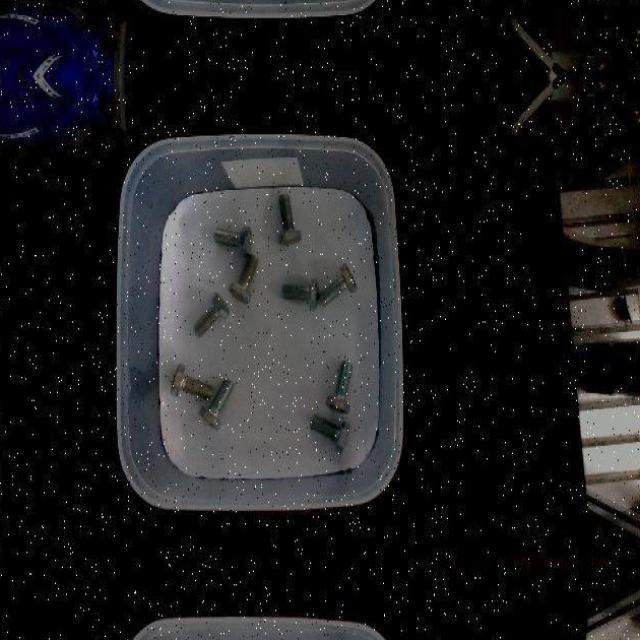screw: (200, 377, 235, 431), (319, 261, 358, 306), (192, 292, 230, 338), (310, 414, 350, 454), (326, 360, 354, 414), (170, 365, 211, 401), (229, 254, 259, 303), (277, 194, 301, 247), (214, 226, 252, 258), (280, 278, 318, 308)
